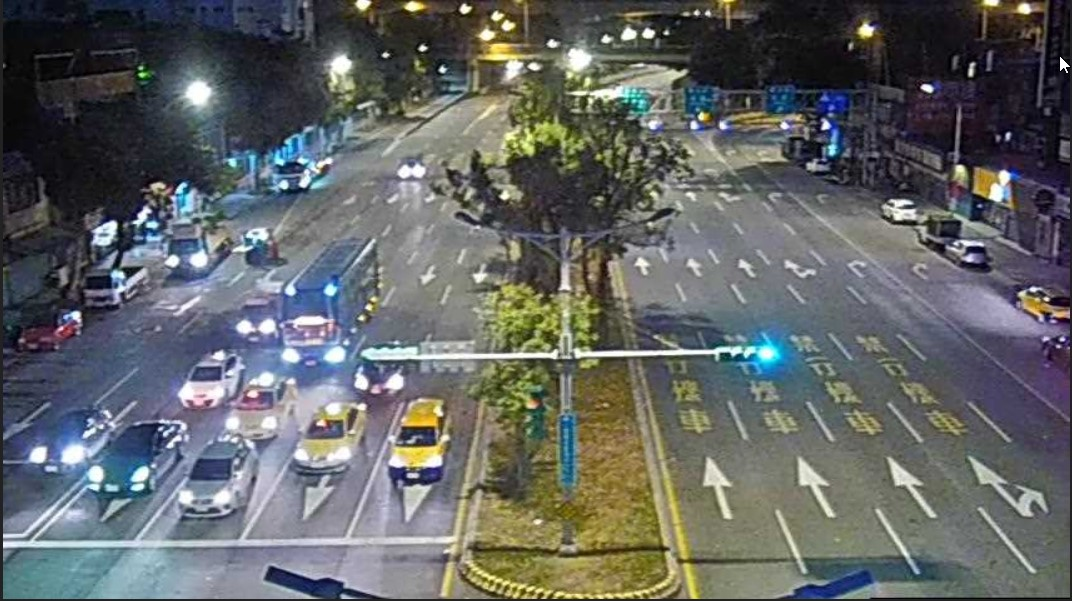Bus: (280, 235, 383, 368), (163, 224, 235, 278), (85, 263, 151, 308), (921, 214, 961, 252)
Business Passenger Car: (390, 390, 450, 496), (298, 396, 358, 496), (178, 346, 244, 414), (230, 372, 288, 442), (1002, 272, 1066, 326)
Private Passenger Car: (98, 412, 172, 506), (184, 438, 248, 526), (32, 406, 100, 488), (18, 307, 85, 357), (950, 230, 992, 274), (884, 194, 922, 228)
